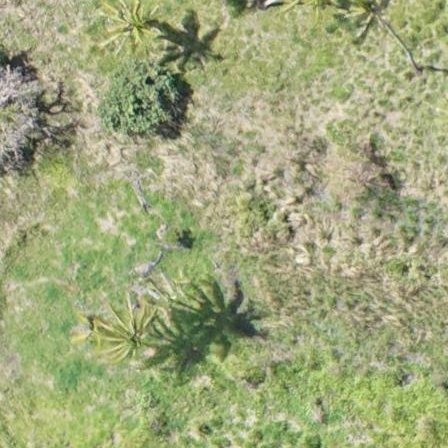palm_tree: (100, 300, 162, 365), (94, 1, 162, 58)
